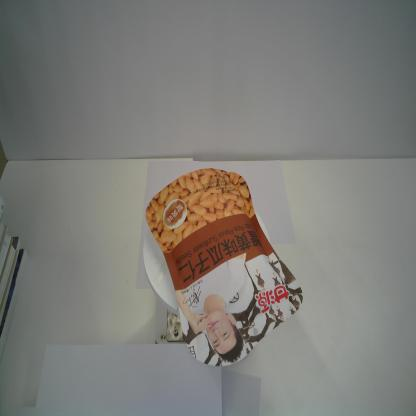Dried Fruit: (145, 168, 304, 367)
